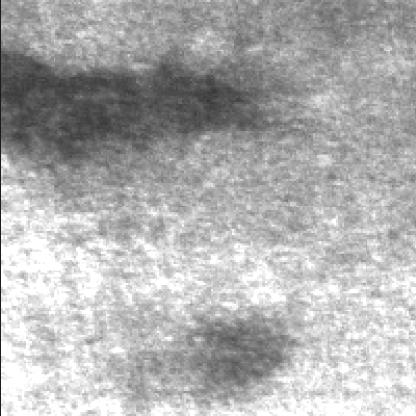patches: (0, 58, 241, 160), (181, 316, 289, 400)
